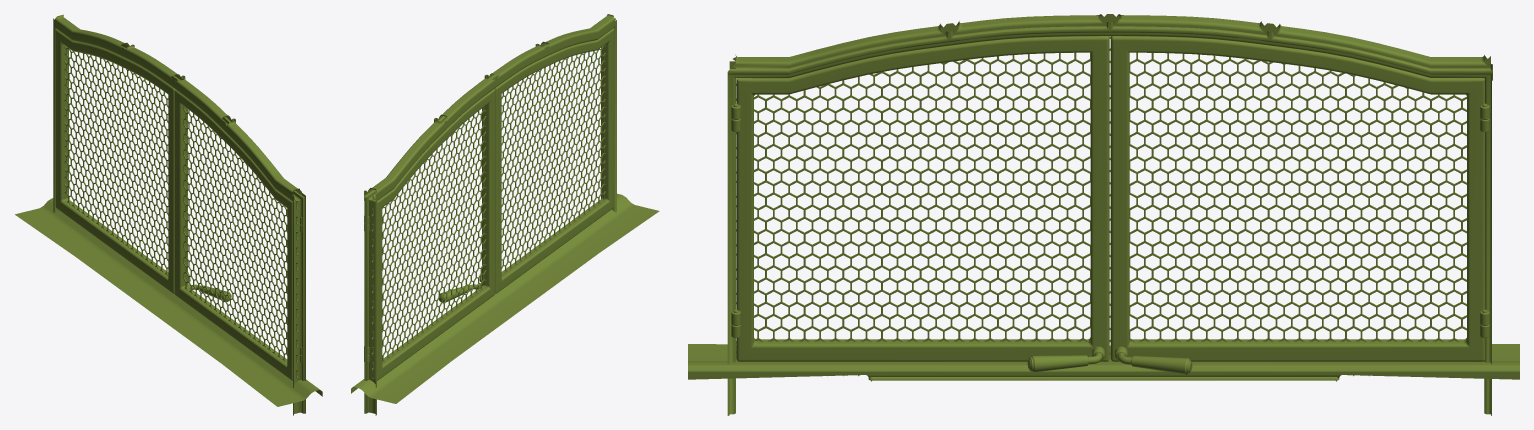
Rendered from parascintille.fbx.
3 views of the same model, side by side, from view 1: azimuth 30°, elevation 25°; view 2: azimuth 150°, elevation 25°; view 3: azimuth 270°, elevation 25° (orthographic). The views are drawn at different scales.
Parts seen in each view (by area): view 1: Parascintille.001; view 2: Parascintille.001; view 3: Parascintille.001.
Part boxes in pixels (bbox=[...]): Parascintille.001: bbox=[15, 14, 322, 415]; Parascintille.001: bbox=[351, 14, 659, 415]; Parascintille.001: bbox=[688, 14, 1519, 415].
Size of the model in its own units: 9.29 by 35.04 by 66.97.
